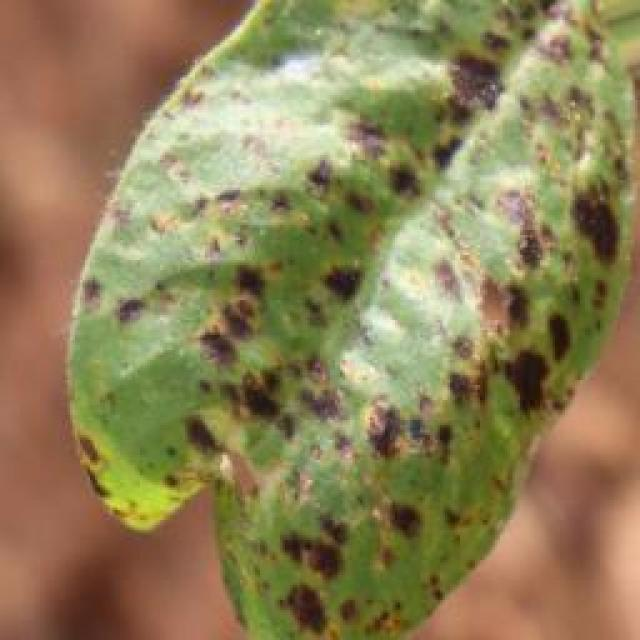Yellowish: (49, 0, 640, 615)
